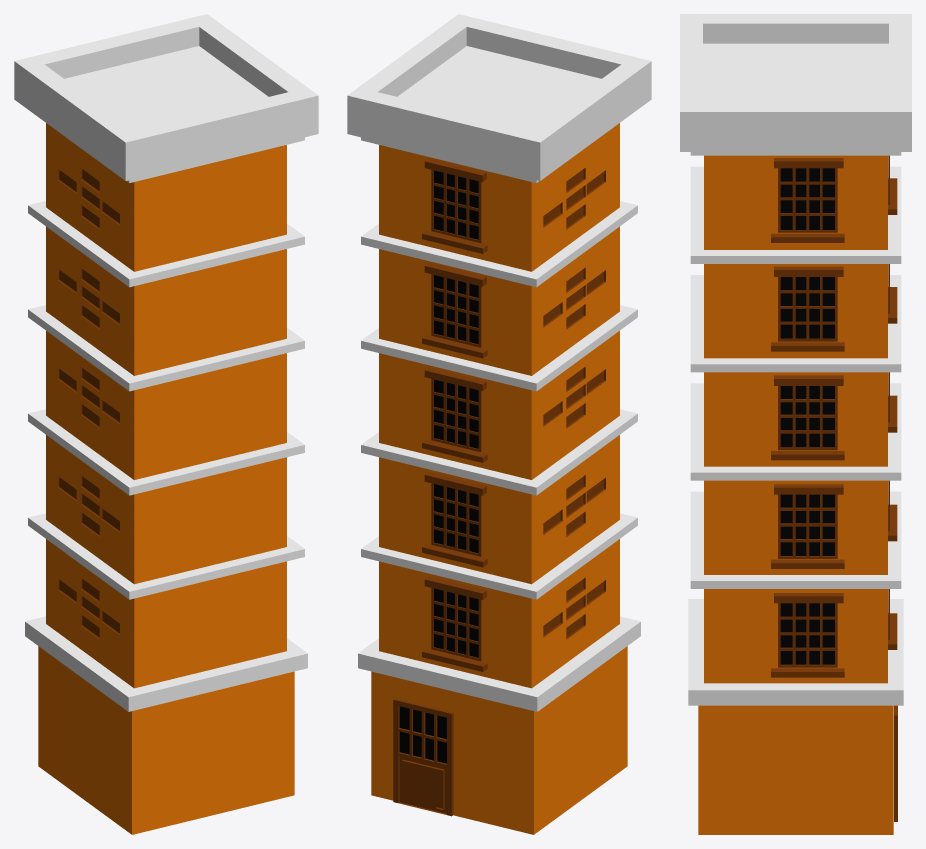
The model's file is houseterrelong.fbx.
3 renders of one model, left to right at view 1: azimuth 30°, elevation 25°; view 2: azimuth 150°, elevation 25°; view 3: azimuth 270°, elevation 25°, orthographic. The views are drawn at different scales.
Visible parts, largest first — view 1: houseterrelong; view 2: houseterrelong; view 3: houseterrelong.
Part boxes in pixels (x1=…): houseterrelong: x1=14, y1=14, x2=318, y2=834; houseterrelong: x1=347, y1=14, x2=651, y2=834; houseterrelong: x1=680, y1=14, x2=911, y2=834.
Bounding box in the file's own units: 1010 × 3511 × 1010.
